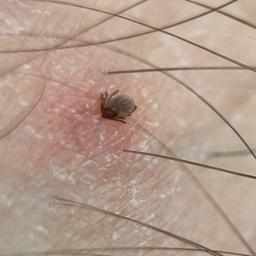Ixodes scapularis: (99, 90, 138, 123)
